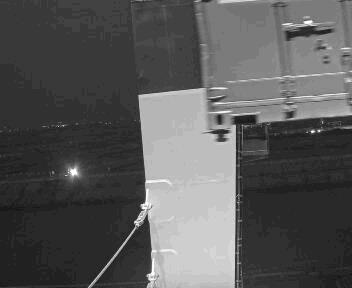twist_lock_1: (200, 125, 231, 148)
